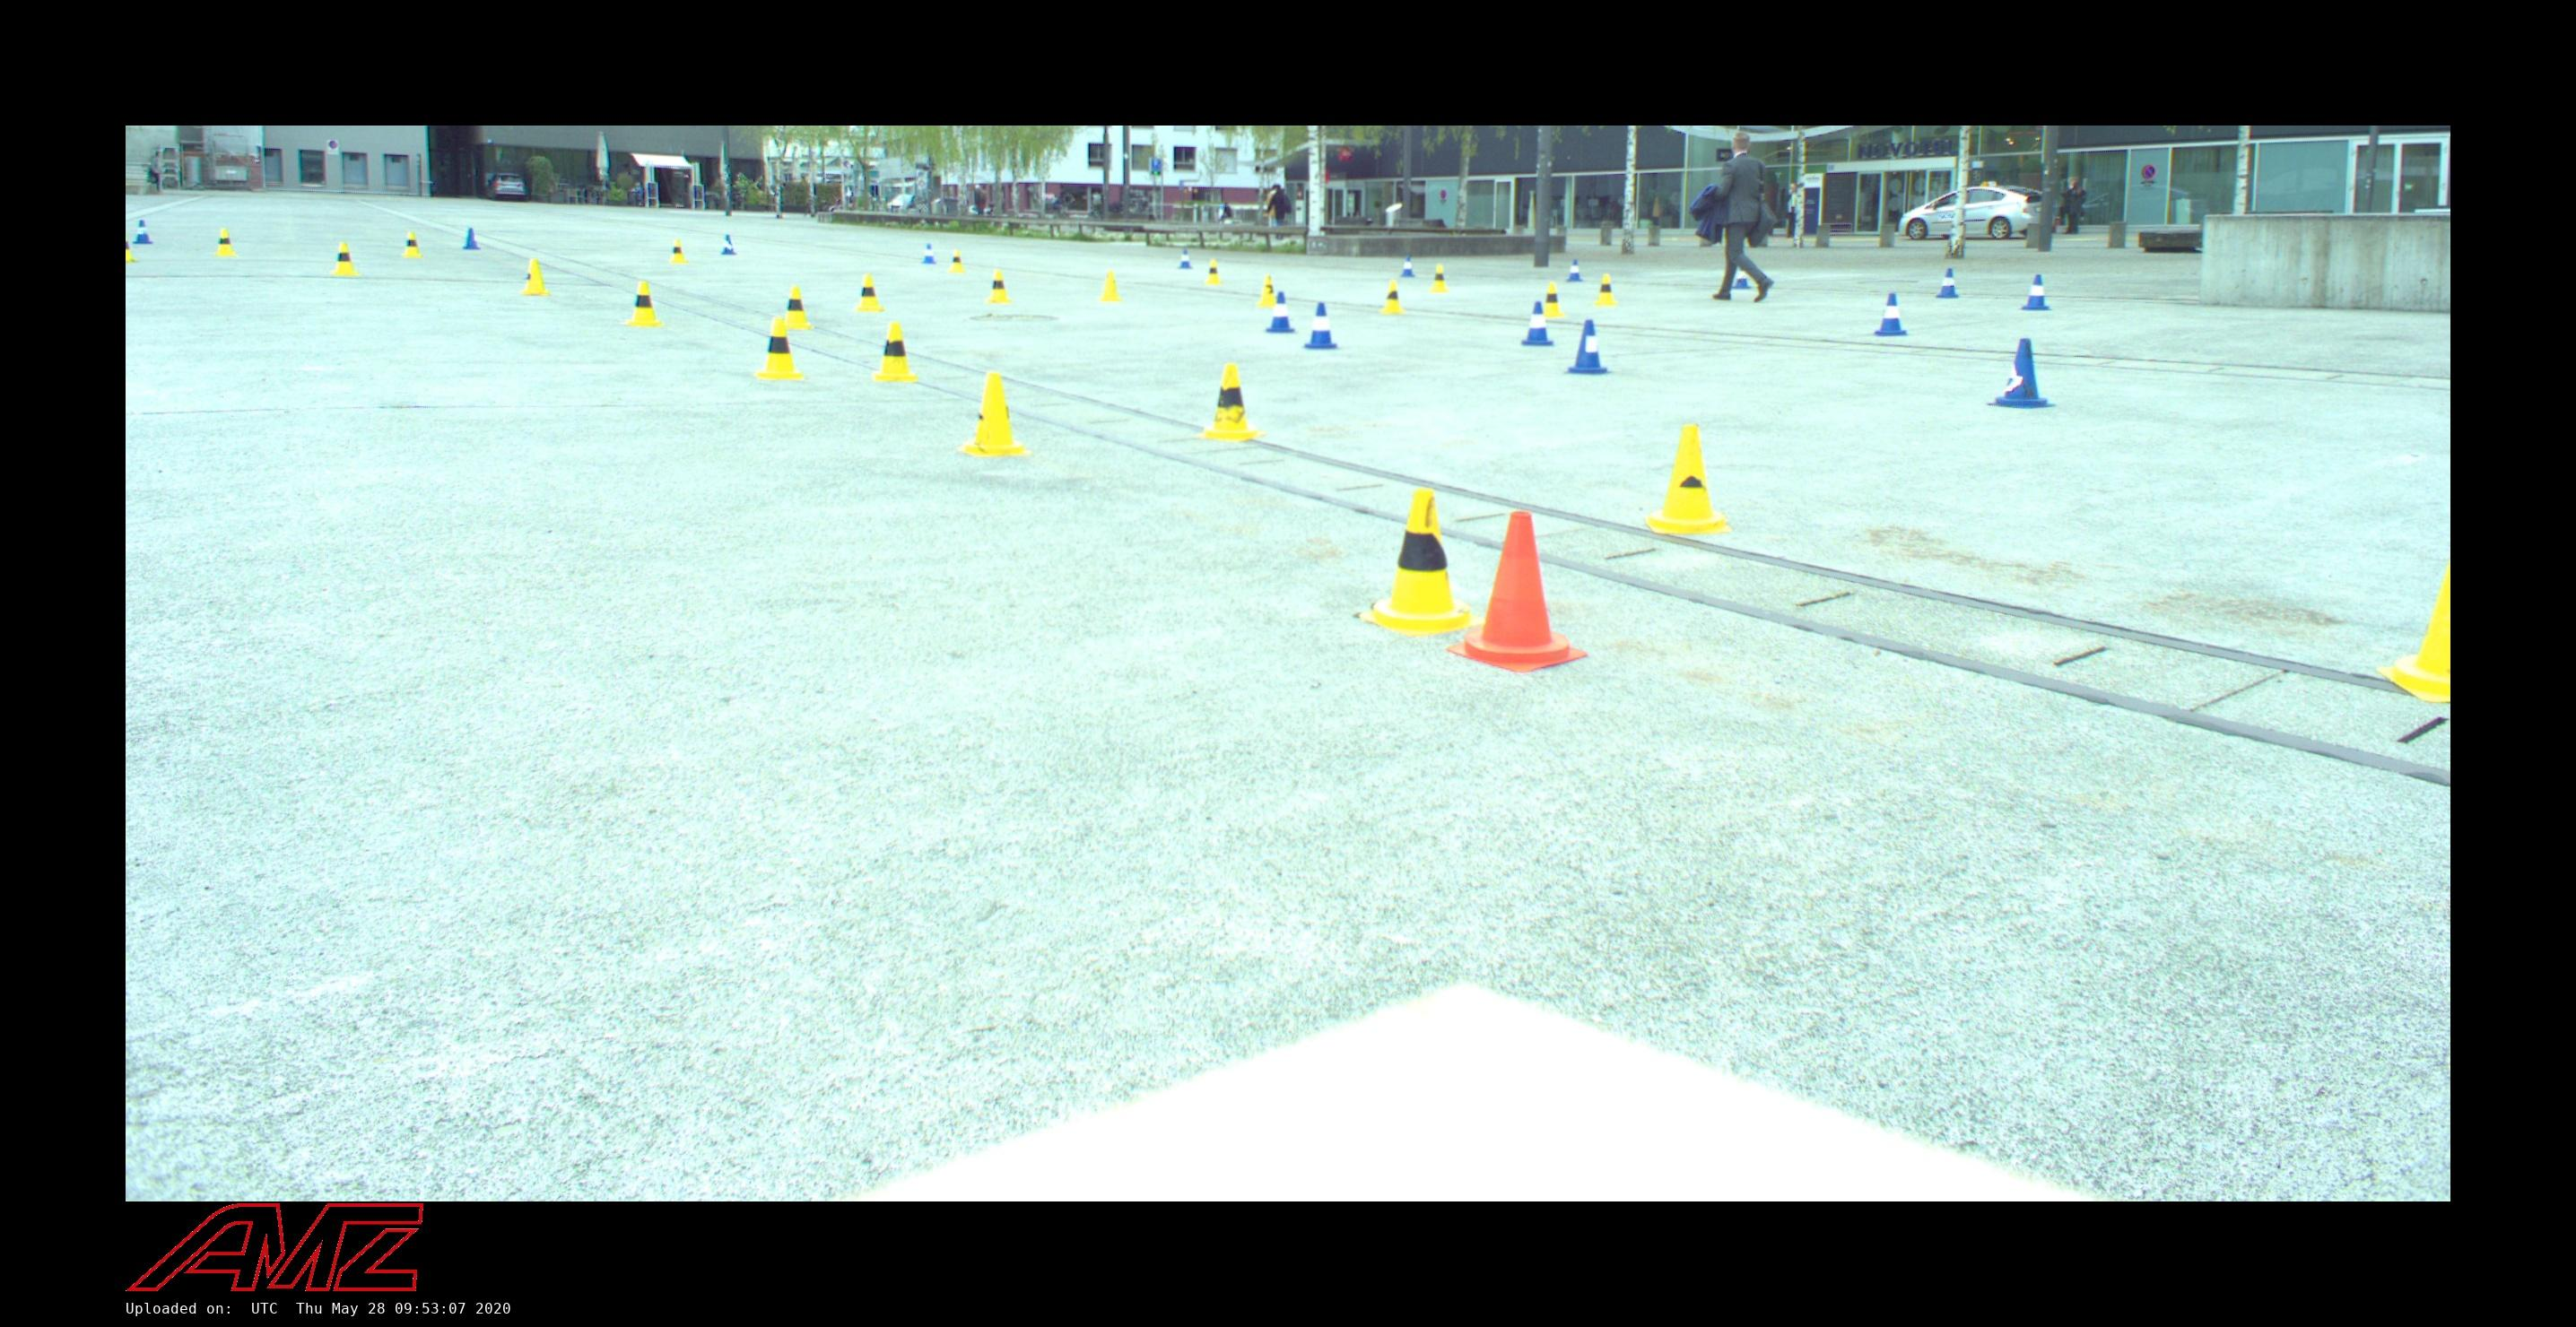blue_cone: (1994, 339, 2056, 408), (1562, 320, 1615, 376), (1303, 301, 1339, 349), (1872, 293, 1907, 335), (1520, 300, 1552, 345), (2016, 274, 2055, 311), (1266, 291, 1295, 333), (1935, 267, 1960, 298), (132, 220, 154, 244), (462, 229, 481, 251), (1175, 251, 1193, 271), (721, 234, 738, 256), (1400, 256, 1415, 278), (921, 244, 936, 264)
orange_cone: (1449, 511, 1594, 670)
yellow_cone: (1359, 491, 1488, 640), (1643, 423, 1731, 537), (961, 372, 1031, 457), (1197, 364, 1264, 440), (753, 322, 807, 381), (872, 323, 917, 383), (621, 281, 667, 327), (775, 284, 819, 330), (848, 274, 887, 310), (520, 259, 550, 295), (982, 271, 1014, 303), (332, 242, 361, 276), (1538, 283, 1566, 318), (1379, 279, 1406, 313), (1593, 274, 1620, 306), (1254, 274, 1276, 308), (1100, 269, 1122, 303), (213, 229, 237, 257), (1428, 264, 1450, 295), (401, 232, 425, 259), (1203, 259, 1224, 284), (670, 239, 689, 264), (948, 249, 966, 274)
